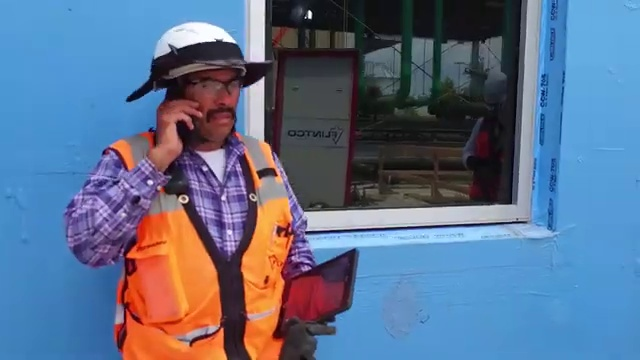helmet: (138, 15, 269, 84)
jacket: (101, 120, 310, 360)
